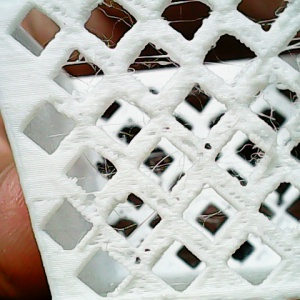3dpstringing: (106, 203, 158, 241), (128, 47, 182, 81), (60, 58, 109, 94), (144, 149, 188, 189), (226, 140, 262, 186), (75, 156, 116, 188), (196, 200, 235, 232), (251, 94, 282, 134), (94, 3, 139, 29), (163, 2, 203, 27), (200, 60, 250, 79), (274, 35, 299, 60), (257, 9, 288, 29)
3dpunderextrusion: (91, 223, 160, 267), (263, 135, 298, 184), (182, 136, 219, 161)
